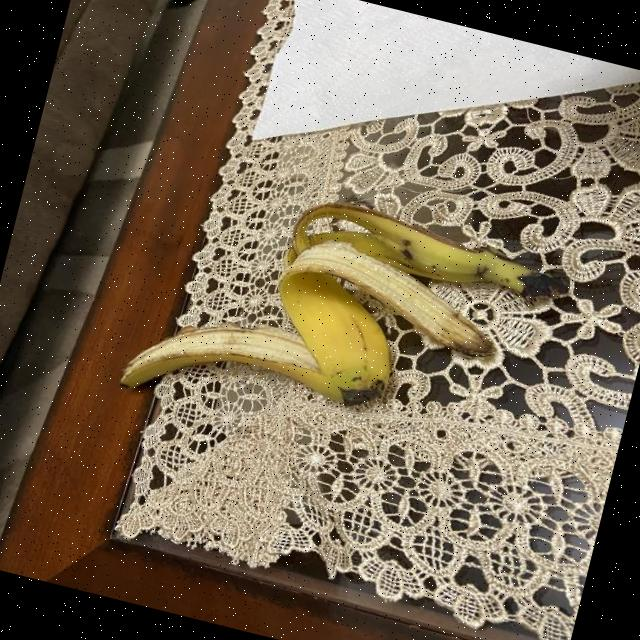banana-peel: (116, 156, 570, 484), (285, 190, 572, 322), (272, 230, 510, 362)
